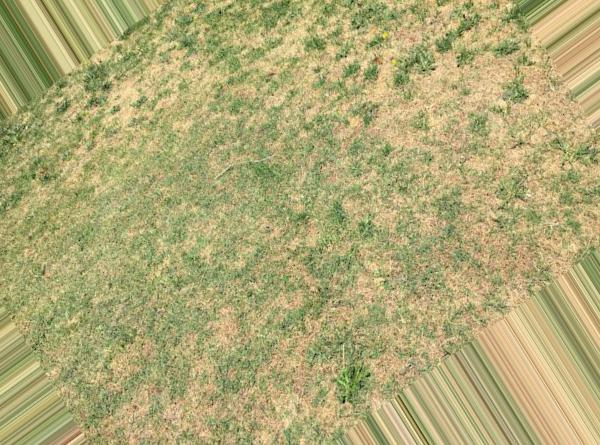patch: (191, 304, 348, 409), (425, 50, 551, 166), (442, 163, 585, 259), (332, 241, 453, 343), (318, 37, 435, 136), (107, 345, 239, 429), (118, 60, 230, 115)
